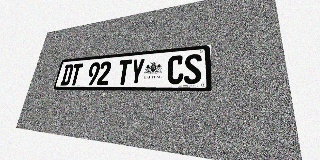2: (97, 61, 112, 85)
9: (86, 62, 101, 85)
C: (167, 55, 184, 84)
D: (60, 64, 74, 85)
S: (184, 53, 202, 84)
T: (116, 59, 132, 85), (69, 63, 83, 85)
Y: (129, 58, 145, 85)
